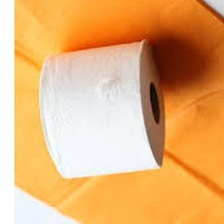tissue: (34, 35, 171, 185)
